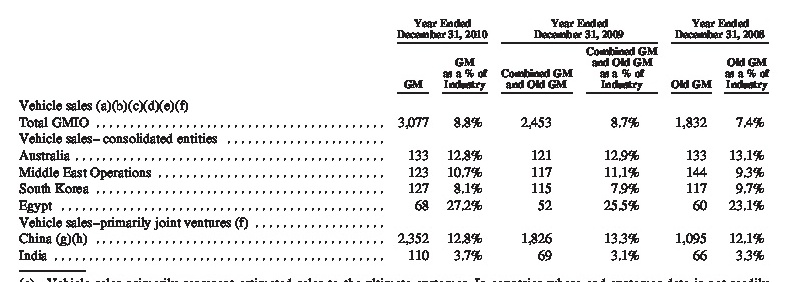table: (0, 0, 789, 282)
